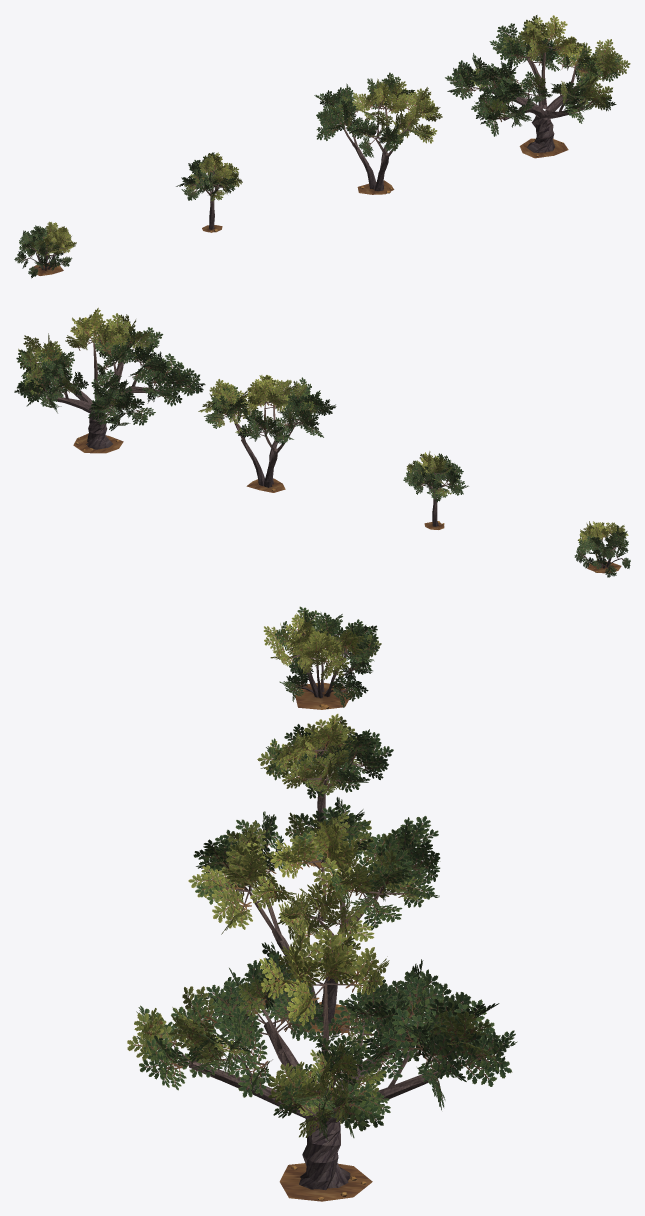
The model's file is carvalhos.glb.
3 renders of one model, top to bottom at view 1: azimuth 30°, elevation 25°; view 2: azimuth 150°, elevation 25°; view 3: azimuth 270°, elevation 25°, orthographic. The views are drawn at different scales.
Visible parts, largest first — view 1: Carvalho4_Anciao, Carvalho3_TresTroncos, Carvalho1_Moita, Carvalho2_Jovem; view 2: Carvalho4_Anciao, Carvalho3_TresTroncos, Carvalho2_Jovem, Carvalho1_Moita; view 3: Carvalho4_Anciao, Carvalho3_TresTroncos, Carvalho1_Moita, Carvalho2_Jovem.
Boxes of the visible parts, x1,y1,x2,y2 form: Carvalho4_Anciao: (445, 15, 630, 158); Carvalho3_TresTroncos: (314, 72, 442, 194); Carvalho1_Moita: (14, 221, 76, 278); Carvalho2_Jovem: (176, 152, 242, 232); Carvalho4_Anciao: (14, 307, 205, 453); Carvalho3_TresTroncos: (198, 375, 336, 492); Carvalho2_Jovem: (403, 451, 468, 529); Carvalho1_Moita: (574, 521, 630, 577); Carvalho4_Anciao: (127, 928, 517, 1201); Carvalho3_TresTroncos: (188, 797, 440, 1032); Carvalho1_Moita: (263, 606, 381, 709); Carvalho2_Jovem: (257, 713, 393, 868).
Size of the model in its own units: 43.67 by 8.86 by 12.23.
2 materials, 2 textured.
